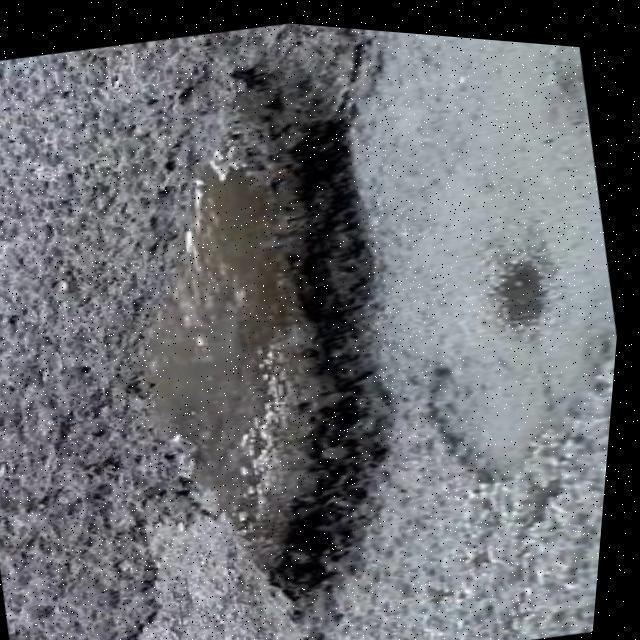Pothole: (116, 25, 414, 633)
